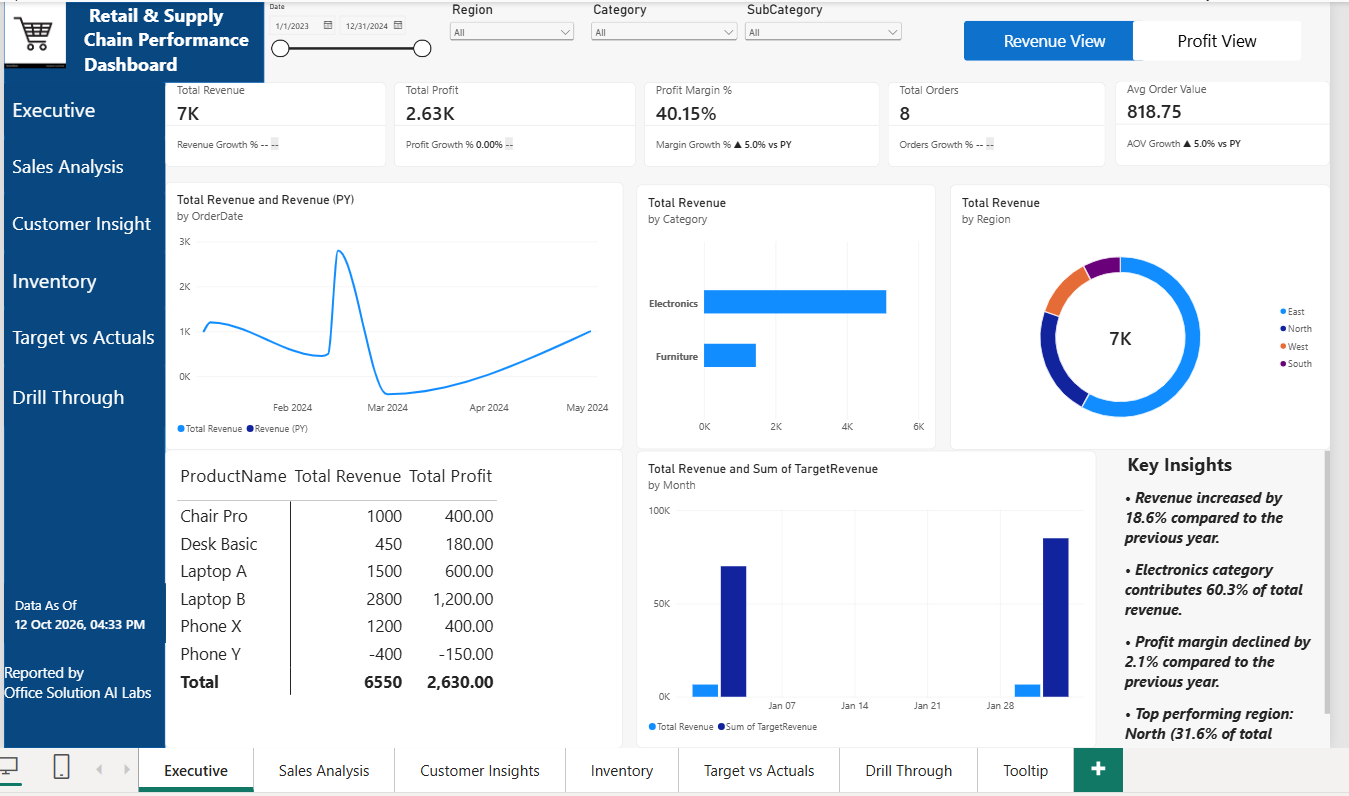

The page's visual inventory and layout, read from the dashboard file:
{"tool":"powerbi","page":{"name":"Executive","canvas":[1920,1080],"ordinal":0},"visuals":[{"type":"cardVisual","fields":{"Data":["Customers.Profit Margin %"]},"box":[926.7,116.7,341.7,123.3],"z":0},{"type":"cardVisual","fields":{"Data":["Customers.Total Orders"]},"box":[1280,116.7,315,123.3],"z":1000},{"type":"cardVisual","fields":{"Data":["Customers.Avg Order Value"]},"box":[1608.3,116.7,311.7,123.3],"z":2000},{"type":"cardVisual","fields":{"Data":["Customers.Total Profit"]},"box":[565,116.7,350,123.3],"z":3000},{"type":"lineChart","fields":{"Category":["Sales_Transactions.OrderDate.Variation.Date Hierarchy.Year"],"Y":["Customers.Total Revenue","Calendar.Revenue (PY)"]},"box":[233.3,260,663.3,388.3],"z":4000},{"type":"clusteredBarChart","fields":{"Category":["Products.Category"],"Y":["Customers.Total Revenue"]},"box":[915,265,433.3,383.3],"z":5000},{"type":"shape","box":[0,95.9,233.4,984.5],"z":6000},{"type":"cardVisual","fields":{"Data":["Customers.Total Revenue"]},"box":[233.3,116.7,320,123.3],"z":7000},{"type":"shape","box":[0,0,376.7,116.7],"z":8000},{"type":"textbox","box":[1726.7,260,150,101.7],"z":9000},{"type":"textbox","box":[116.7,0,260,116.7],"z":10000},{"type":"actionButton","box":[0,116.7,233.3,80],"z":11000},{"type":"actionButton","box":[0,196.7,233.3,80],"z":12000},{"type":"actionButton","box":[0,276.7,233.3,85],"z":13000},{"type":"actionButton","box":[0,361.7,233.3,81.7],"z":14000},{"type":"actionButton","box":[0,443.3,233.3,83.3],"z":15000},{"type":"actionButton","box":[0,526.7,233.3,90],"z":16000},{"type":"pivotTable","fields":{"Rows":["Products.ProductName"],"Values":["Customers.Total Revenue","Customers.Total Profit"]},"box":[233.4,647.9,662.3,432.5],"z":17000},{"type":"clusteredColumnChart","fields":{"Category":["Targets.Month.Variation.Date Hierarchy.Month"],"Y":["Customers.Total Revenue","Sum(Targets.TargetRevenue)"]},"box":[915.7,649.7,666,430.7],"z":18000},{"type":"donutChart","fields":{"Category":["Customers.Region"],"Y":["Customers.Total Revenue"]},"box":[1369.9,264.2,550.1,383.6],"z":19000},{"type":"slicer","fields":{"Values":["Calendar.Date"]},"box":[376.7,0,245,116.7],"z":20000},{"type":"slicer","fields":{"Values":["Customers.Region"]},"box":[640,0,190,116.7],"z":21000},{"type":"slicer","fields":{"Values":["Products.Category"]},"box":[845,0,221.7,116.7],"z":22000},{"type":"slicer","fields":{"Values":["Products.SubCategory"]},"box":[1068,0,236.7,116.7],"z":23000},{"type":"actionButton","box":[1390,28,262,58],"z":24000},{"type":"actionButton","box":[1634,28,244,58],"z":25000},{"type":"textbox","box":[1581.6,649.7,338.4,430.7],"z":26000},{"type":"textbox","box":[0,956,234,124],"z":27000},{"type":"cardVisual","fields":{"Data":["Calendar.Data As Of"]},"box":[0,842,234,86],"z":28000},{"type":"image","box":[0,0,90,96],"z":29000}]}

Visuals, with their boxes on the page's 1920x1080 design canvas (x1, y1, x2, y2). These are canvas units, not pixel positions in the 1349x796 screenshot, which may show the page scaled, cropped or inside an application window:
cardVisual - Customers.Profit Margin %: 927:117:1268:240
cardVisual - Customers.Total Orders: 1280:117:1595:240
cardVisual - Customers.Avg Order Value: 1608:117:1920:240
cardVisual - Customers.Total Profit: 565:117:915:240
lineChart - Sales_Transactions.OrderDate.Variation.Date Hierarchy.Year x Customers.Total Revenue: 233:260:897:648
clusteredBarChart - Products.Category x Customers.Total Revenue: 915:265:1348:648
shape: 0:96:233:1080
cardVisual - Customers.Total Revenue: 233:117:553:240
shape: 0:0:377:117
textbox: 1727:260:1877:362
textbox: 117:0:377:117
actionButton: 0:117:233:197
actionButton: 0:197:233:277
actionButton: 0:277:233:362
actionButton: 0:362:233:443
actionButton: 0:443:233:527
actionButton: 0:527:233:617
pivotTable - Products.ProductName x Customers.Total Revenue: 233:648:896:1080
clusteredColumnChart - Targets.Month.Variation.Date Hierarchy.Month x Customers.Total Revenue: 916:650:1582:1080
donutChart - Customers.Region x Customers.Total Revenue: 1370:264:1920:648
slicer - Calendar.Date: 377:0:622:117
slicer - Customers.Region: 640:0:830:117
slicer - Products.Category: 845:0:1067:117
slicer - Products.SubCategory: 1068:0:1305:117
actionButton: 1390:28:1652:86
actionButton: 1634:28:1878:86
textbox: 1582:650:1920:1080
textbox: 0:956:234:1080
cardVisual - Calendar.Data As Of: 0:842:234:928
image: 0:0:90:96
